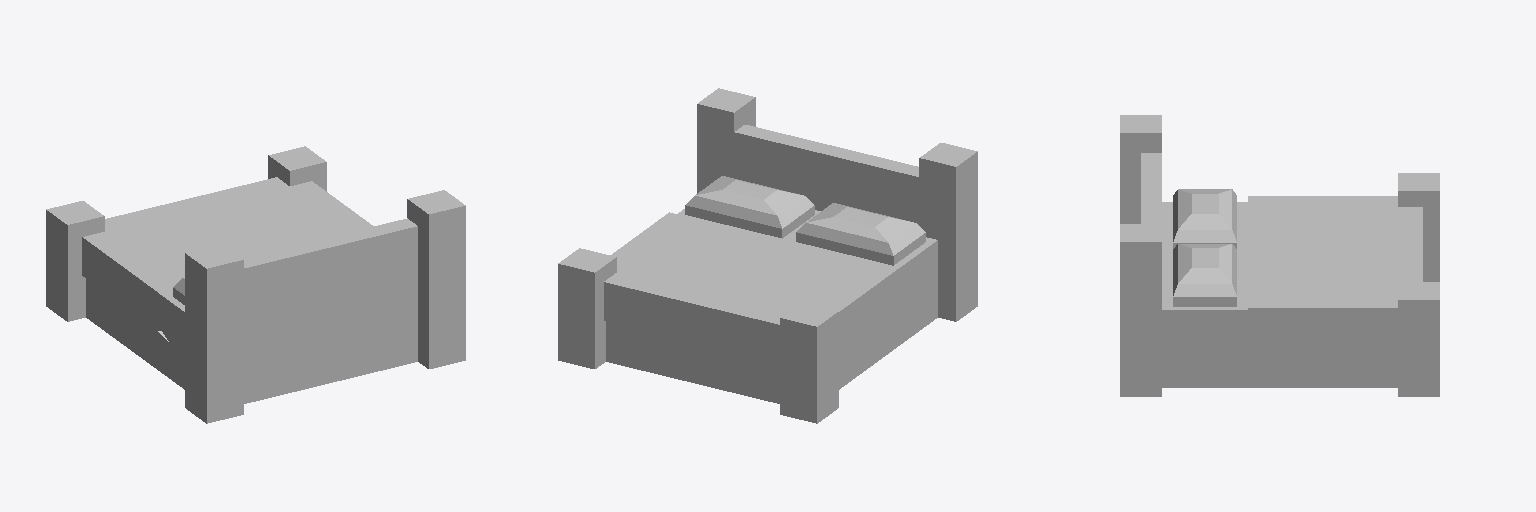
Rendered from bed_double_tempestdesert.obj.
3 views of the same model, side by side, from view 1: azimuth 30°, elevation 25°; view 2: azimuth 150°, elevation 25°; view 3: azimuth 270°, elevation 25° (orthographic).
Parts seen in each view (by area): view 1: bed_tempest_desert_double; view 2: bed_tempest_desert_double; view 3: bed_tempest_desert_double.
Boxes of the visible parts, box(x1,y1,x2,y2) form: bed_tempest_desert_double: box(46, 146, 465, 423); bed_tempest_desert_double: box(558, 88, 977, 423); bed_tempest_desert_double: box(1120, 115, 1439, 396).
Size of the model in its own units: 1.4 by 0.8 by 1.5.